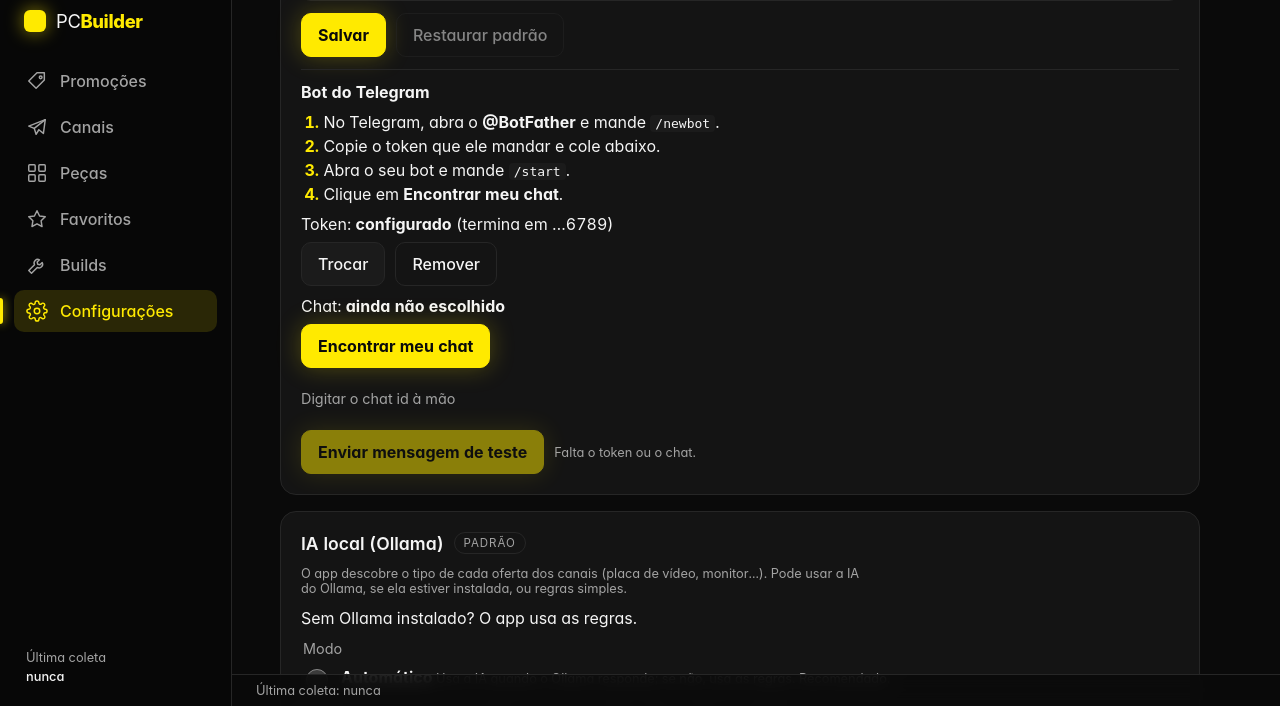
Notificação: bot do Telegram › encontrar meu chat: lista e escolher salva o chat id
The width and height of the screenshot is (1280, 706).
(page scrolled)
Check: the button "Enviar mensagem de teste" is disabled, box x1=301 y1=430 x2=544 y2=474
Click the button "Encontrar meu chat".
click(396, 346)  # box x1=301 y1=324 x2=490 y2=368
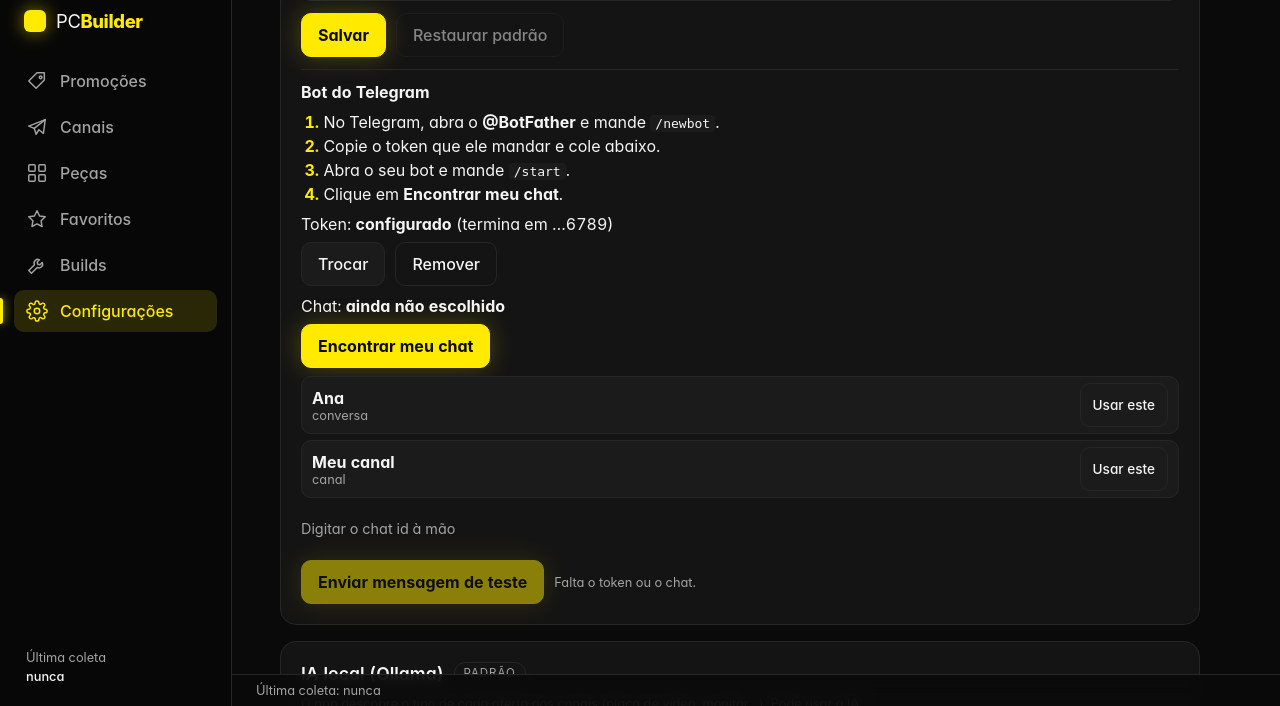
Click the button with aria-label "Usar o chat Ana".
click(1124, 405)  # box x1=1080 y1=383 x2=1168 y2=427
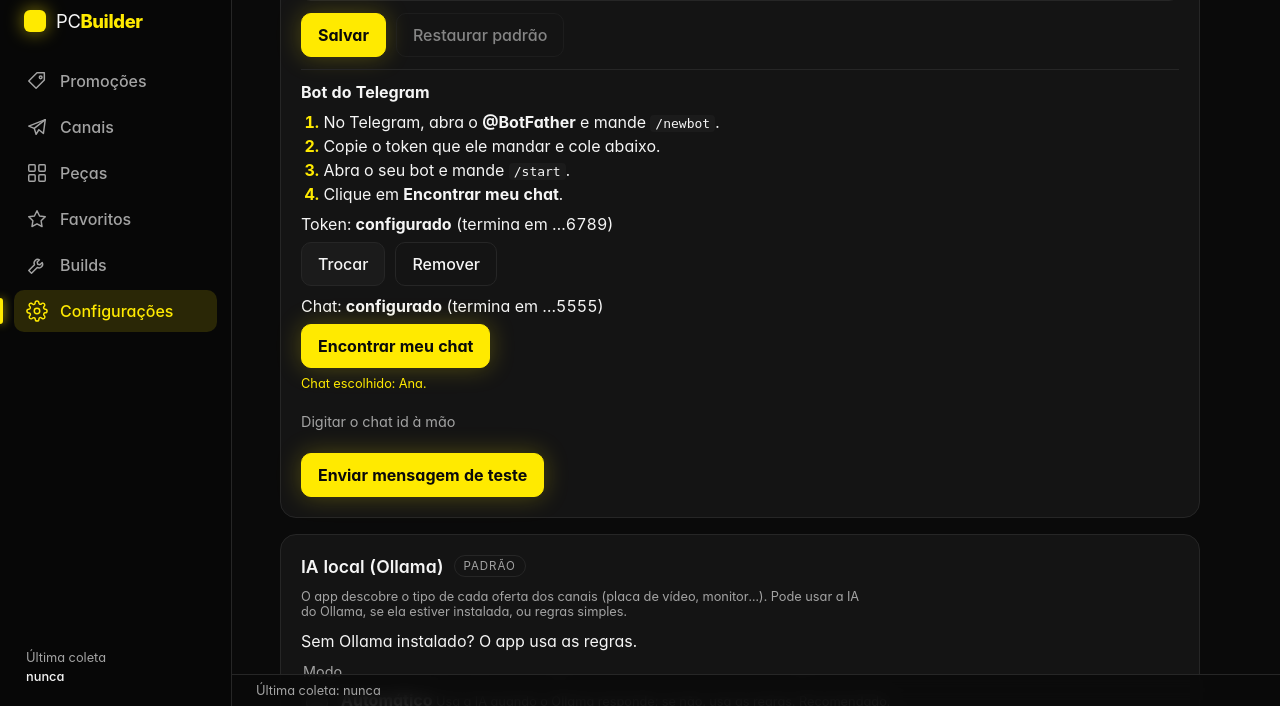
Check: the text "Chat escolhido: Ana." is shown, box x1=301 y1=376 x2=426 y2=391
Check: the button "Enviar mensagem de teste" is enabled, box x1=301 y1=453 x2=544 y2=497
